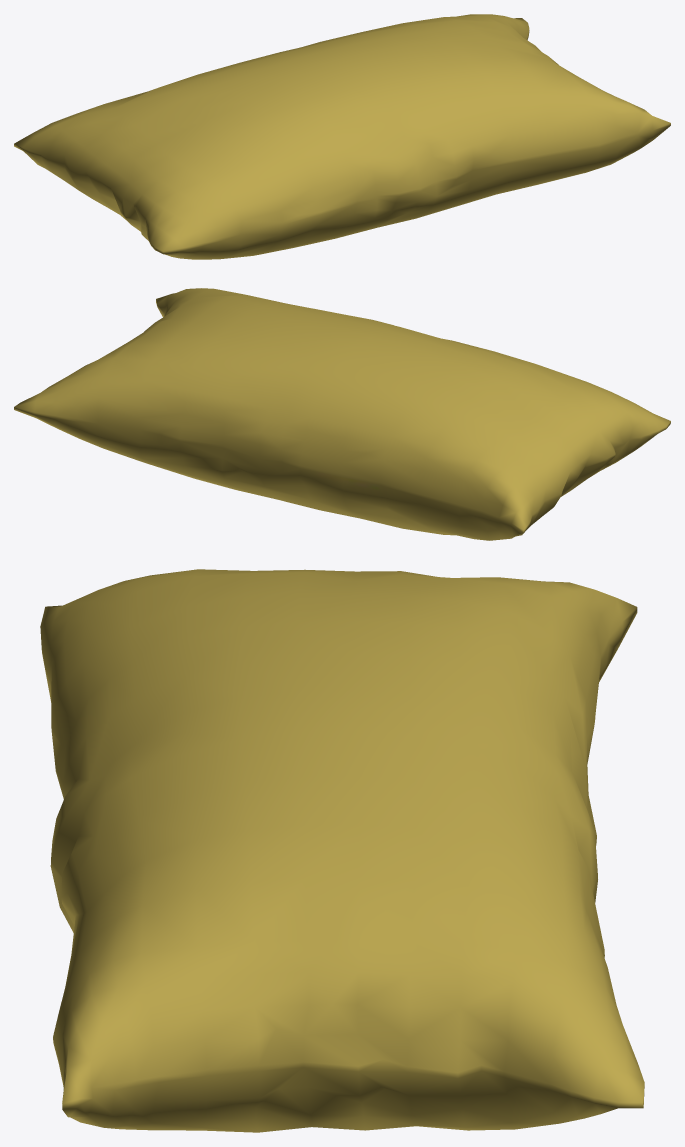
Rendered from Mcdonough.fbx.
The picture shows the model from 3 angles, top to bottom: view 1: azimuth 30°, elevation 25°; view 2: azimuth 150°, elevation 25°; view 3: azimuth 270°, elevation 25°; orthographic projection. The views are drawn at different scales.
Visible parts, largest first — view 1: Mcdonough Canopy Bed.003; view 2: Mcdonough Canopy Bed.003; view 3: Mcdonough Canopy Bed.003.
Boxes of the visible parts, box(x1,y1,x2,y2) form: Mcdonough Canopy Bed.003: box(14, 14, 670, 259); Mcdonough Canopy Bed.003: box(14, 288, 670, 540); Mcdonough Canopy Bed.003: box(40, 569, 644, 1132).
Size of the model in its own units: 0.5297 by 0.1478 by 0.2702.
